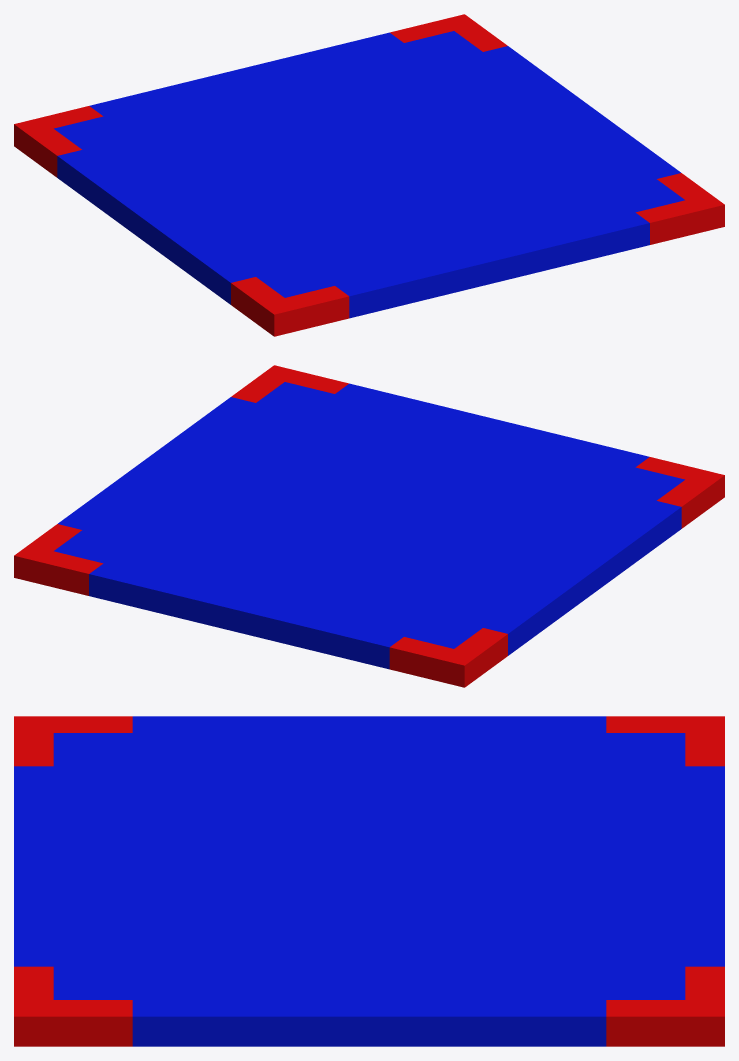
The model's file is PlaceHolder 1.fbx.
The picture shows the model from 3 angles, top to bottom: view 1: azimuth 30°, elevation 25°; view 2: azimuth 150°, elevation 25°; view 3: azimuth 270°, elevation 25°; orthographic projection. The views are drawn at different scales.
Parts seen in each view (by area): view 1: Plane.013; view 2: Plane.013; view 3: Plane.013.
Part boxes in pixels (<box>): Plane.013: <box>14,14,724,336</box>; Plane.013: <box>14,365,724,687</box>; Plane.013: <box>14,716,724,1046</box>.
Size of the model in its own units: 1600 by 75 by 1600.
